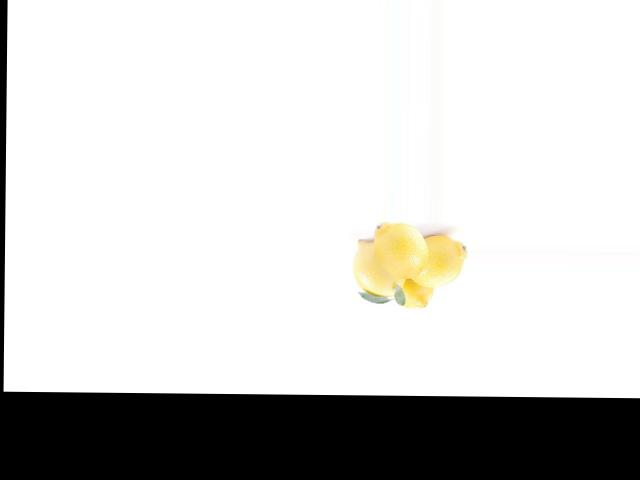lemon: (408, 240, 470, 288)
